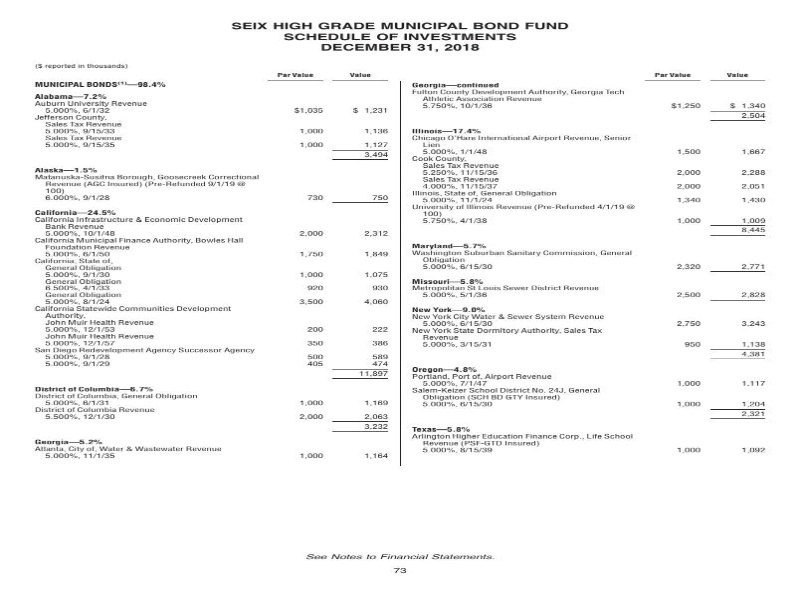table: (14, 53, 407, 486), (391, 61, 782, 474)
